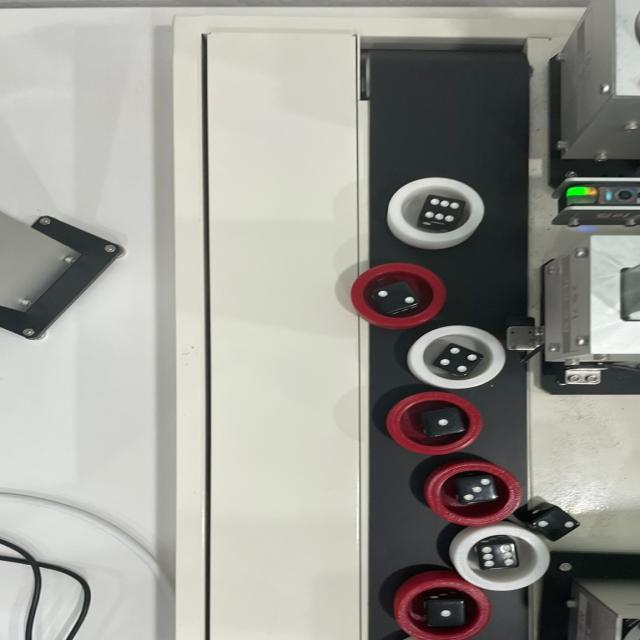DICE1: (430, 598, 463, 626), (430, 412, 462, 434)
DICE2: (374, 283, 415, 310), (534, 512, 580, 536)
DICE3: (456, 475, 494, 504)
DICE4: (437, 346, 481, 377)
DICE6: (421, 197, 462, 224), (479, 544, 517, 568)
RedChip: (425, 461, 523, 526), (350, 262, 446, 328), (386, 393, 483, 455), (397, 578, 492, 640)
WhiteChip: (386, 178, 486, 248), (454, 526, 550, 594), (408, 326, 503, 389)
